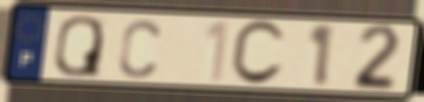1: (305, 22, 336, 90), (204, 20, 230, 84)
2: (352, 22, 403, 93)
C: (227, 18, 289, 88), (116, 17, 163, 80)
Q: (52, 13, 106, 79)
